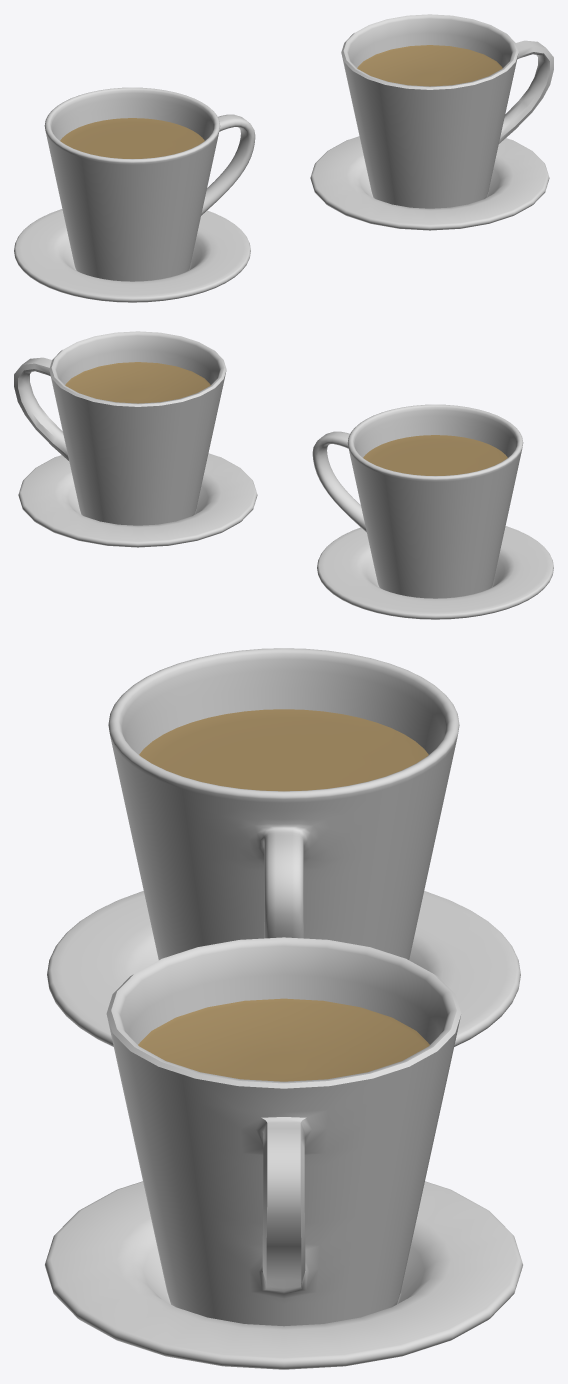
Rendered from Coffee cup.fbx.
3 views of the same model, one above another, from view 1: azimuth 30°, elevation 25°; view 2: azimuth 150°, elevation 25°; view 3: azimuth 270°, elevation 25° (orthographic). The views are drawn at different scales.
Parts seen in each view (by area): view 1: coffe_cup, coffe_cup_2, plate, plate_2, coffee, coffee_2; view 2: coffe_cup, coffe_cup_2, plate, plate_2, coffee, coffee_2; view 3: coffe_cup, coffe_cup_2, plate, plate_2, coffee, coffee_2.
Part boxes in pixels (left/top/right/bottom): coffe_cup: left=341, top=14, right=553, bottom=208; coffe_cup_2: left=44, top=87, right=255, bottom=281; plate: left=310, top=136, right=549, bottom=230; plate_2: left=14, top=209, right=250, bottom=302; coffee: left=357, top=45, right=502, bottom=86; coffee_2: left=60, top=118, right=204, bottom=158; coffe_cup: left=14, top=331, right=226, bottom=525; coffe_cup_2: left=312, top=404, right=523, bottom=598; plate: left=18, top=453, right=257, bottom=547; plate_2: left=317, top=526, right=553, bottom=619; coffee: left=65, top=362, right=210, bottom=403; coffee_2: left=363, top=435, right=507, bottom=475; coffe_cup: left=106, top=937, right=461, bottom=1326; coffe_cup_2: left=108, top=648, right=459, bottom=959; plate: left=45, top=1181, right=522, bottom=1369; plate_2: left=47, top=891, right=520, bottom=1046; coffee: left=138, top=998, right=429, bottom=1081; coffee_2: left=139, top=709, right=428, bottom=791.
Size of the model in its own units: 29.49 by 8.29 by 11.75.
